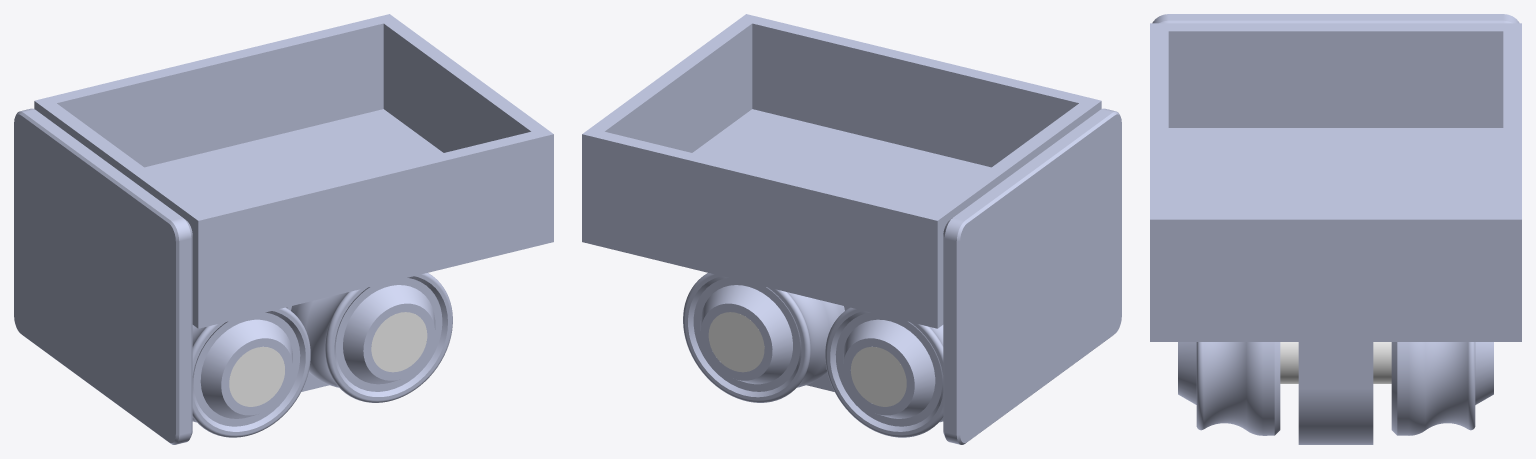
The model's file is Cart.glb.
The picture shows the model from 3 angles, left to right: view 1: azimuth 30°, elevation 25°; view 2: azimuth 150°, elevation 25°; view 3: azimuth 270°, elevation 25°; orthographic projection. The views are drawn at different scales.
Visible parts, largest first — view 1: Caja de peso-1, Cart Shield-1, Cart Tire-2, Cart Tire-1, Cart Axle-1, Cart Axle-2; view 2: Caja de peso-1, Cart Shield-1, Cart Tire-3, Cart Tire-5, Cart Axle-1, Cart Axle-2; view 3: Caja de peso-1, Cart Tire-2, Cart Tire-3, Cart Chassis-1, Cart Shield-1, Cart Axle-2.
Part boxes in pixels (x1,y1,x2,y2): Caja de peso-1: (34,14,553,328); Cart Shield-1: (14,108,192,444); Cart Tire-2: (291,273,452,402); Cart Tire-1: (192,307,310,437); Cart Axle-1: (229,346,285,406); Cart Axle-2: (371,312,427,372); Caja de peso-1: (582,14,1101,328); Cart Shield-1: (943,108,1121,444); Cart Tire-3: (683,273,844,402); Cart Tire-5: (825,307,943,437); Cart Axle-1: (850,346,906,406); Cart Axle-2: (708,312,764,372); Caja de peso-1: (1150,23,1521,341); Cart Tire-2: (1178,342,1280,435); Cart Tire-3: (1391,342,1493,435); Cart Chassis-1: (1298,342,1373,444); Cart Shield-1: (1152,14,1519,23); Cart Axle-2: (1280,342,1391,383).
Size of the model in its own units: 0.053 by 0.035 by 0.04.
